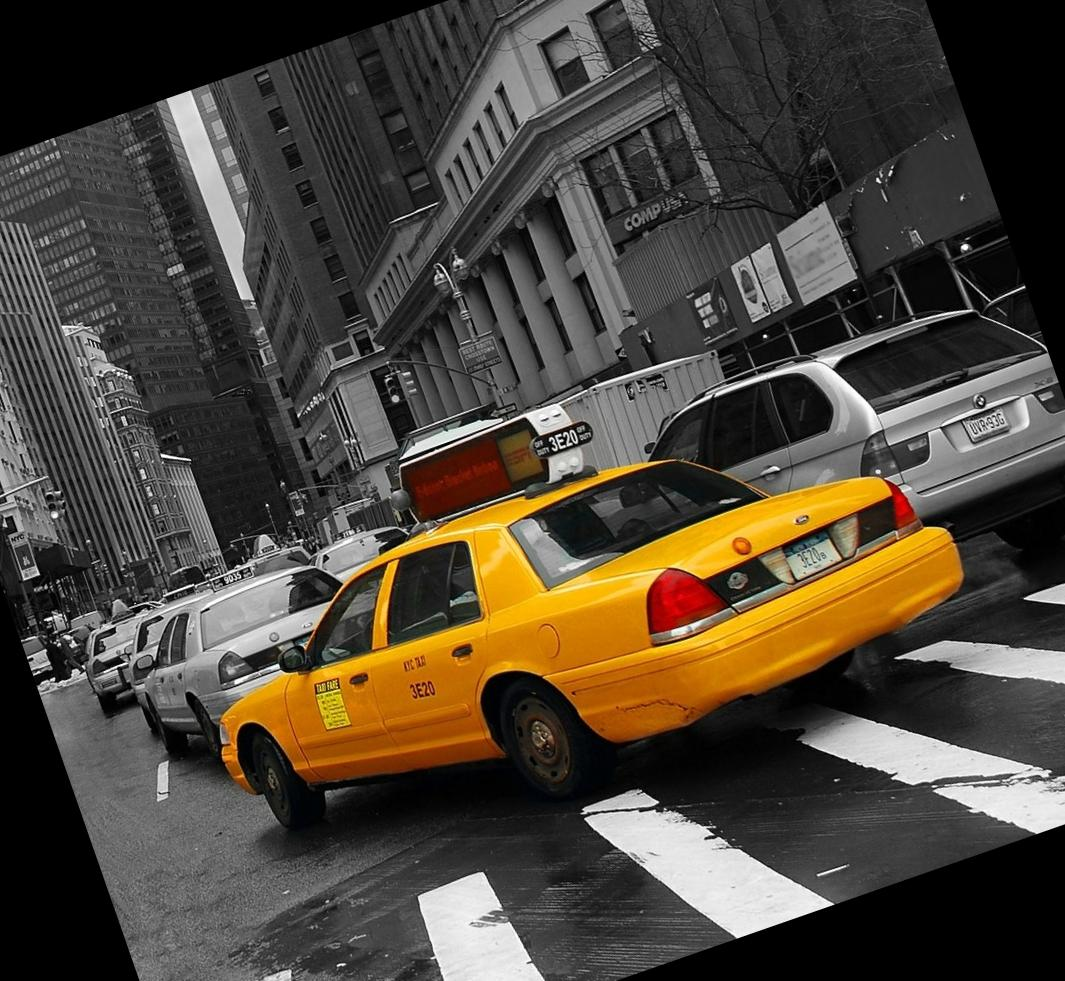taxi: (147, 534, 982, 767)
